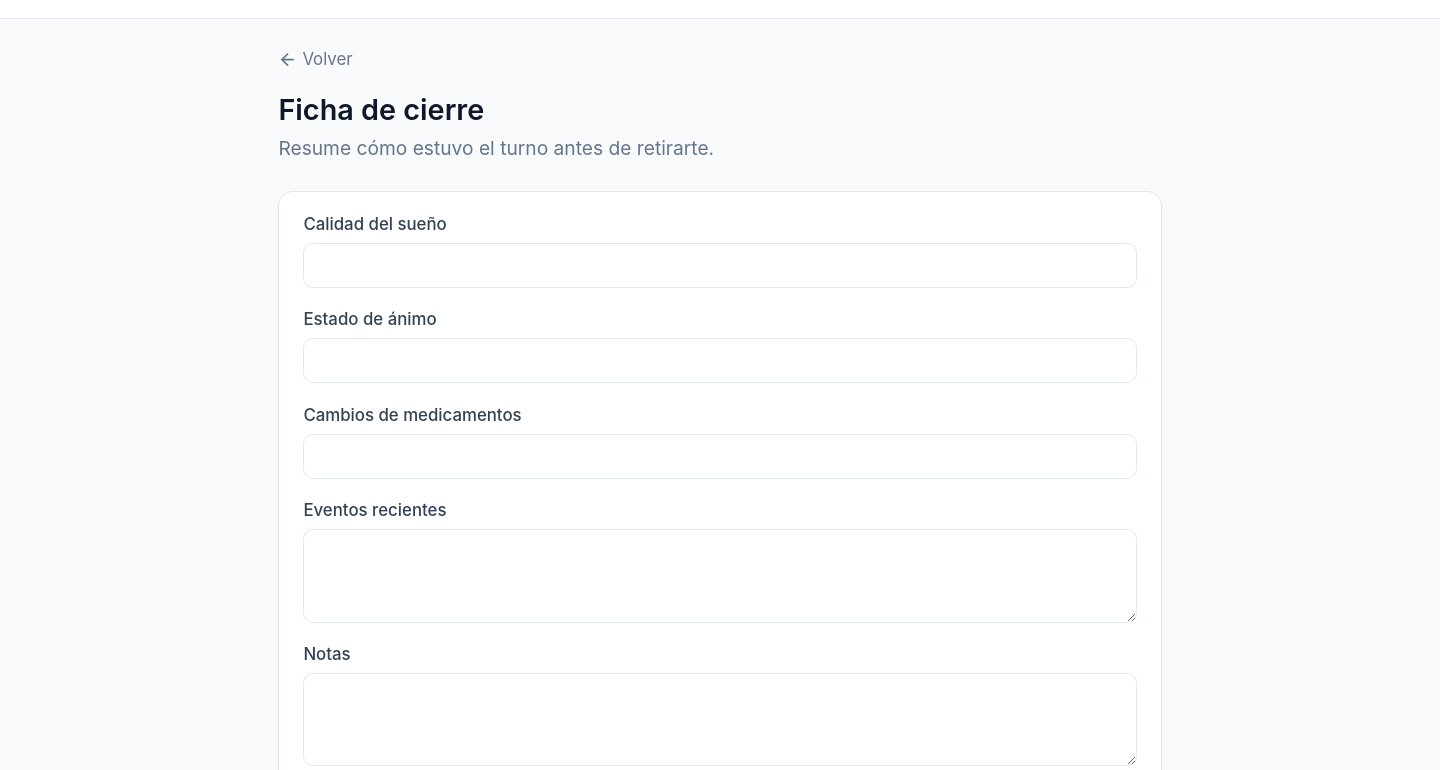
it: HandoffForm › submits the handoff and shows the completion message
Type "Good" into the field labelled "Calidad del sueño".
click(720, 265); type("Good")  # box left=303, top=243, right=1137, bottom=288
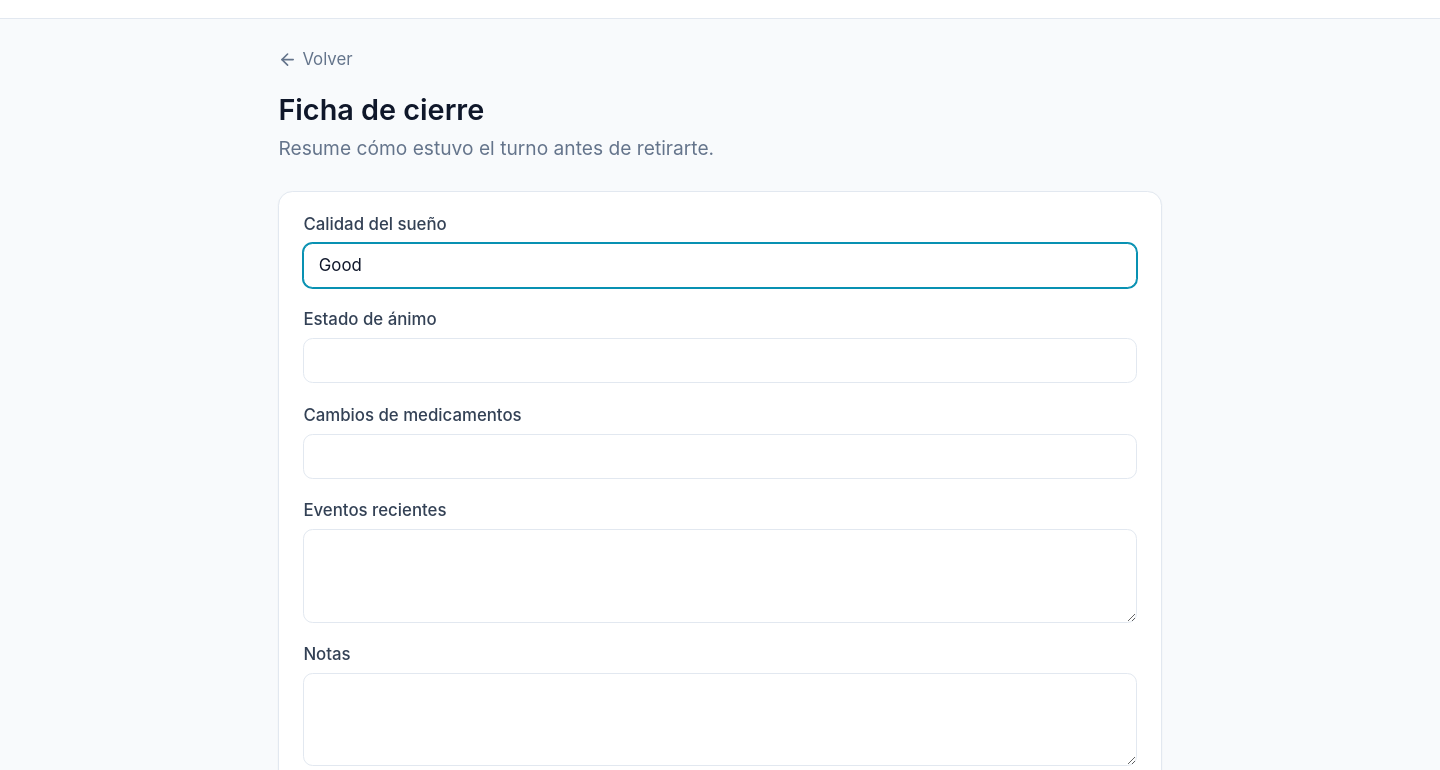
Type "Calm" into the field labelled "Estado de ánimo".
click(720, 361); type("Calm")  # box left=303, top=338, right=1137, bottom=384
(page scrolled)
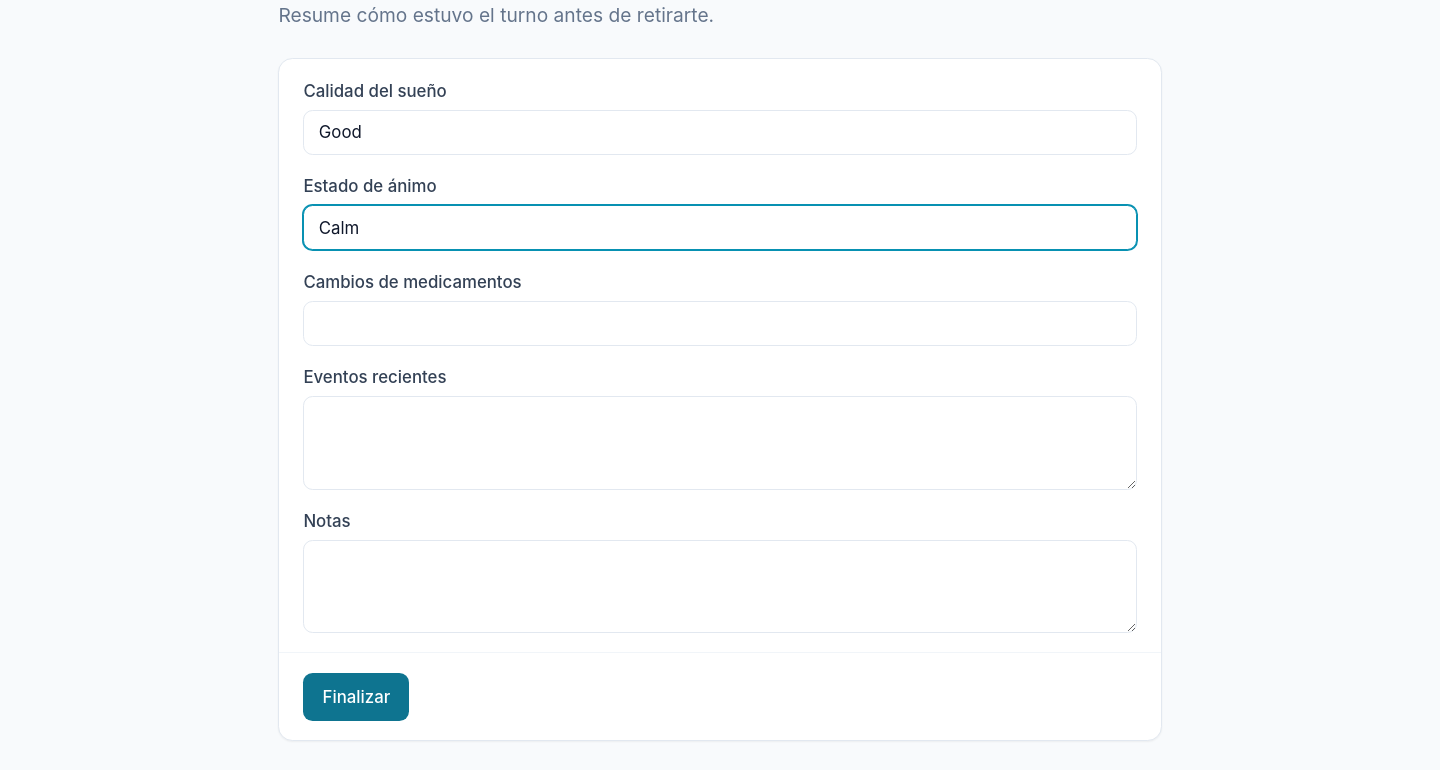
Click the button "Finalizar".
click(356, 696)  # box left=303, top=672, right=409, bottom=720
(page scrolled)
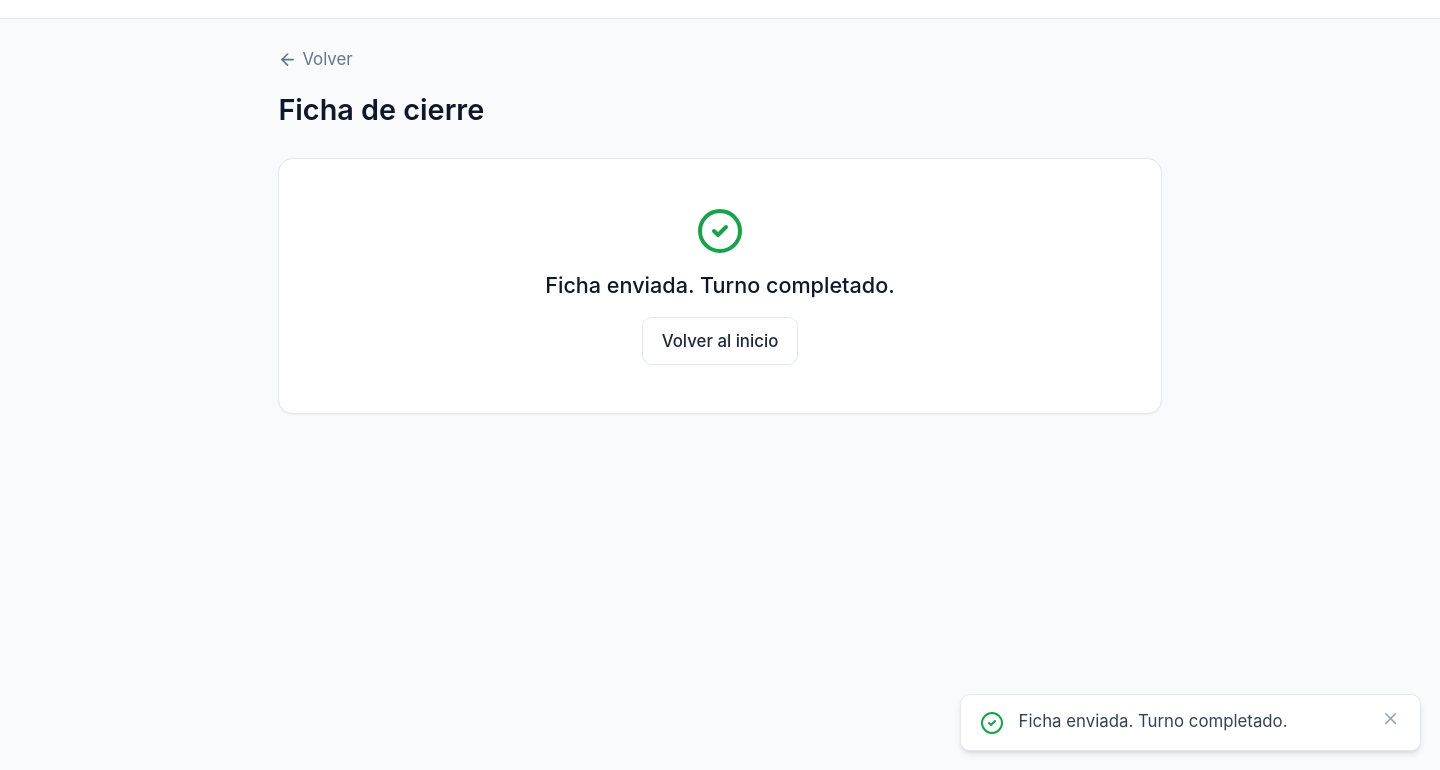
Check: the text "Ficha enviada. Turno completado." below "Ficha de cierre" is shown, box left=545, top=272, right=895, bottom=298
Check: the button "Volver al inicio" is shown, box left=642, top=317, right=798, bottom=365
